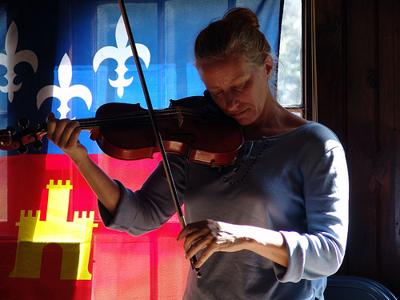person: (46, 7, 351, 300)
